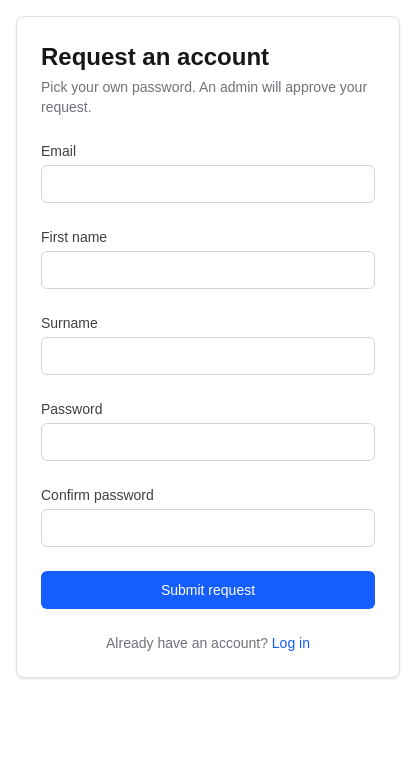
Scenario: DoctorRegisterPage › keeps the error neutral when the request fails
Type "new@x.com" into the field labelled "Email".
click(208, 184); type("new@x.com")  # box left=41, top=165, right=375, bottom=203
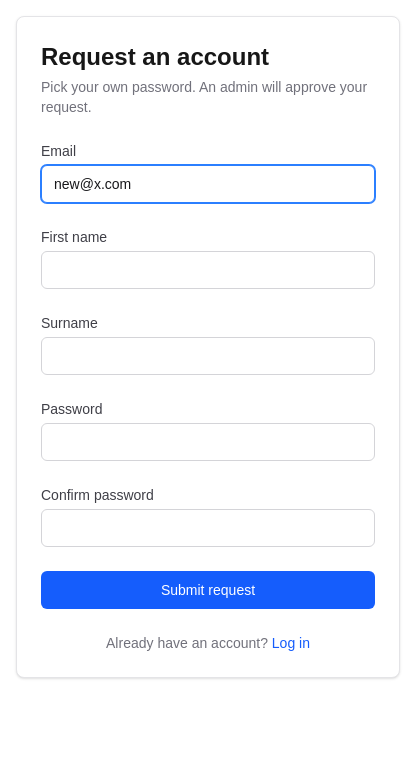
Type "New" into the field labelled "First name".
click(208, 270); type("New")  # box left=41, top=251, right=375, bottom=289
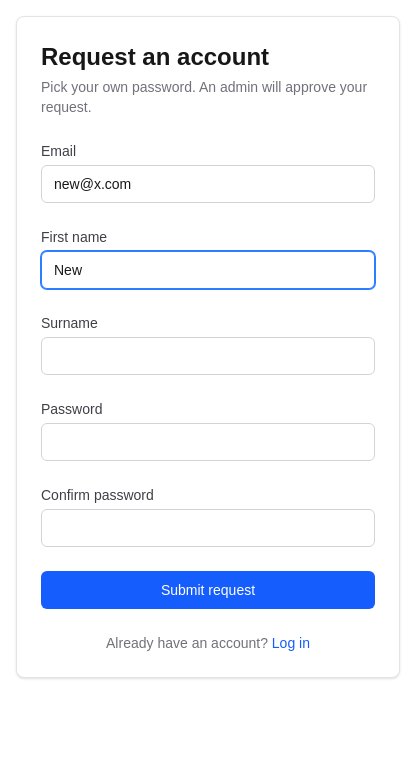
Type "Doc" into the field labelled "Surname".
click(208, 356); type("Doc")  # box left=41, top=337, right=375, bottom=375
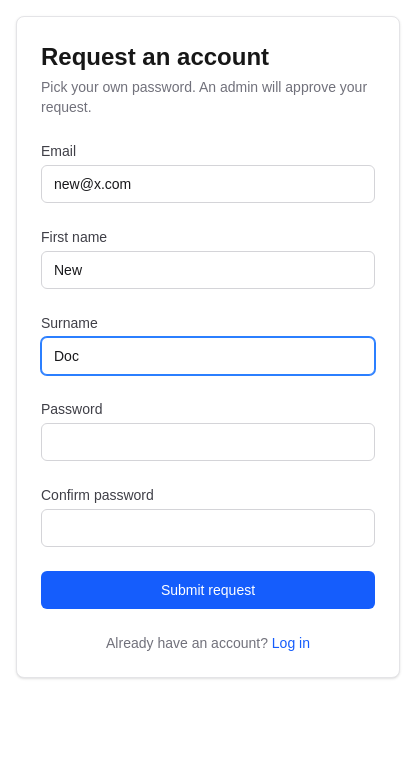
Type "secret1" into the password field labelled "Password".
click(208, 442); type("secret1")  # box left=41, top=423, right=375, bottom=461
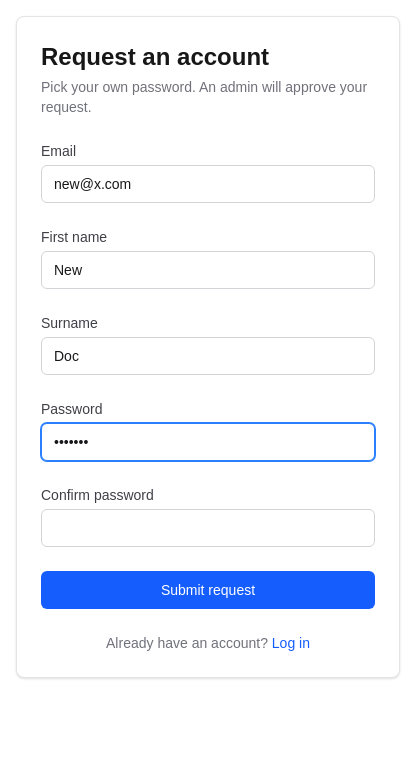
Type "secret1" into the password field labelled "Confirm password".
click(208, 528); type("secret1")  # box left=41, top=509, right=375, bottom=547
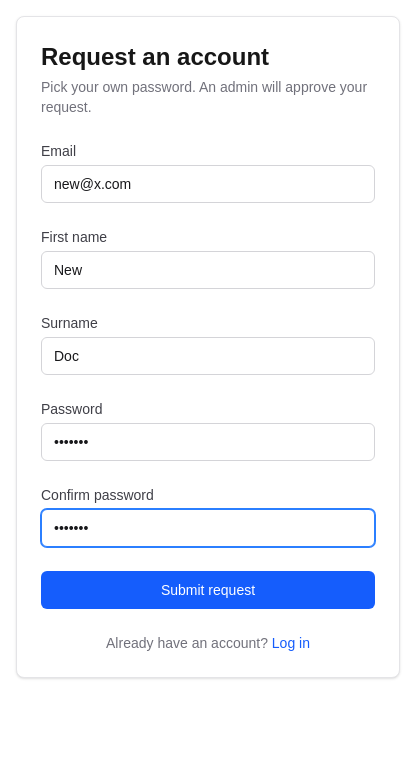
Click the button "Submit request".
click(208, 590)  # box left=41, top=571, right=375, bottom=609
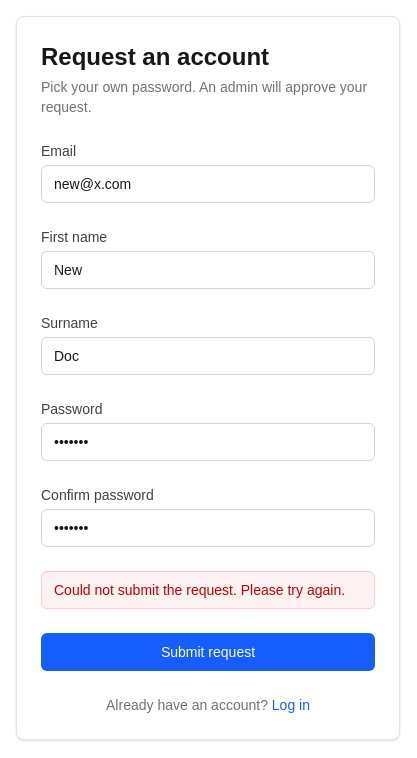
Check: the text "Could not submit the request. Please try again." is shown, box left=41, top=571, right=375, bottom=609
